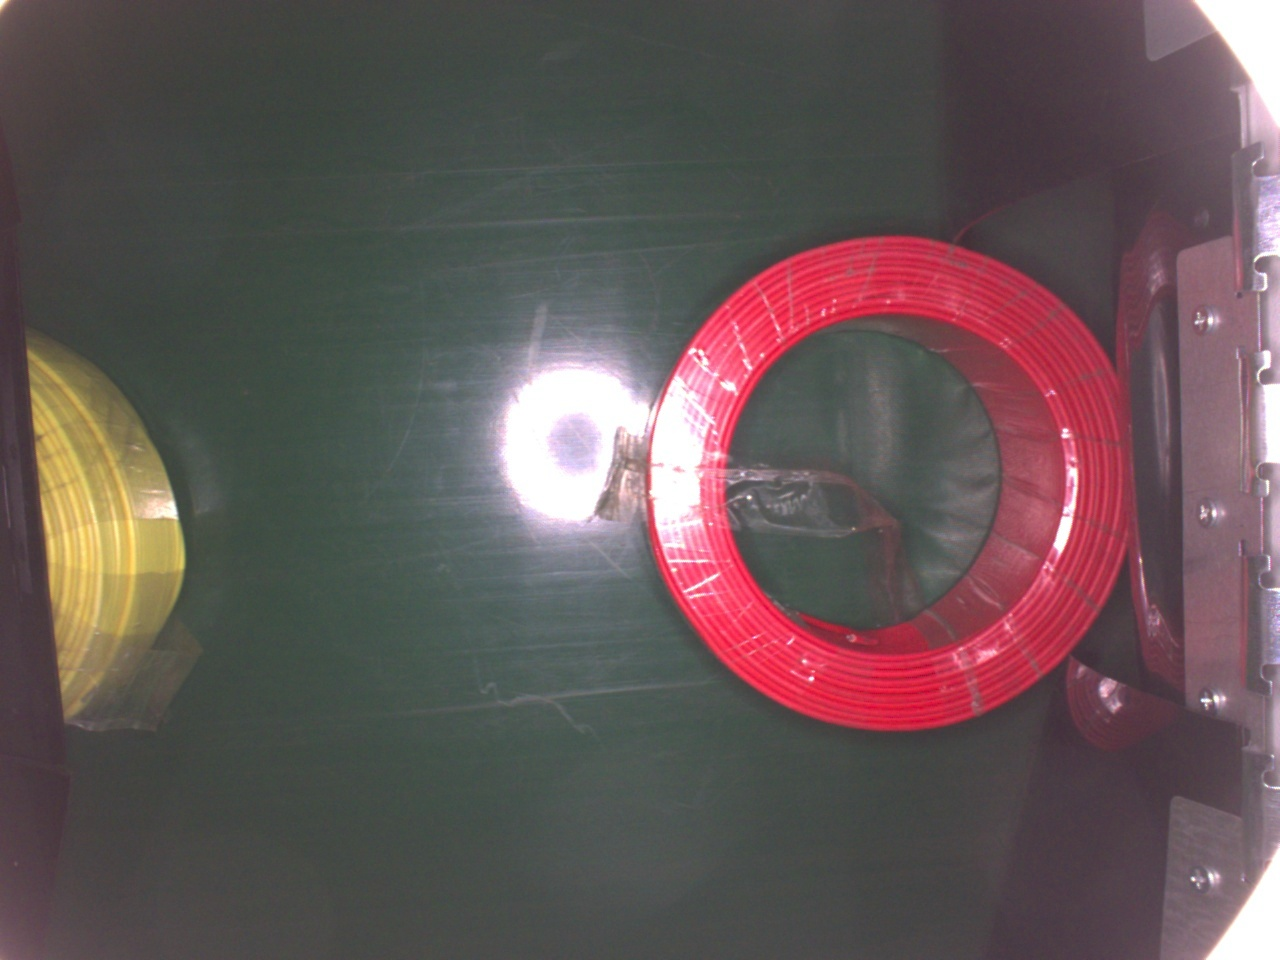red: (640, 232, 1127, 737)
yellow: (30, 329, 186, 727)
